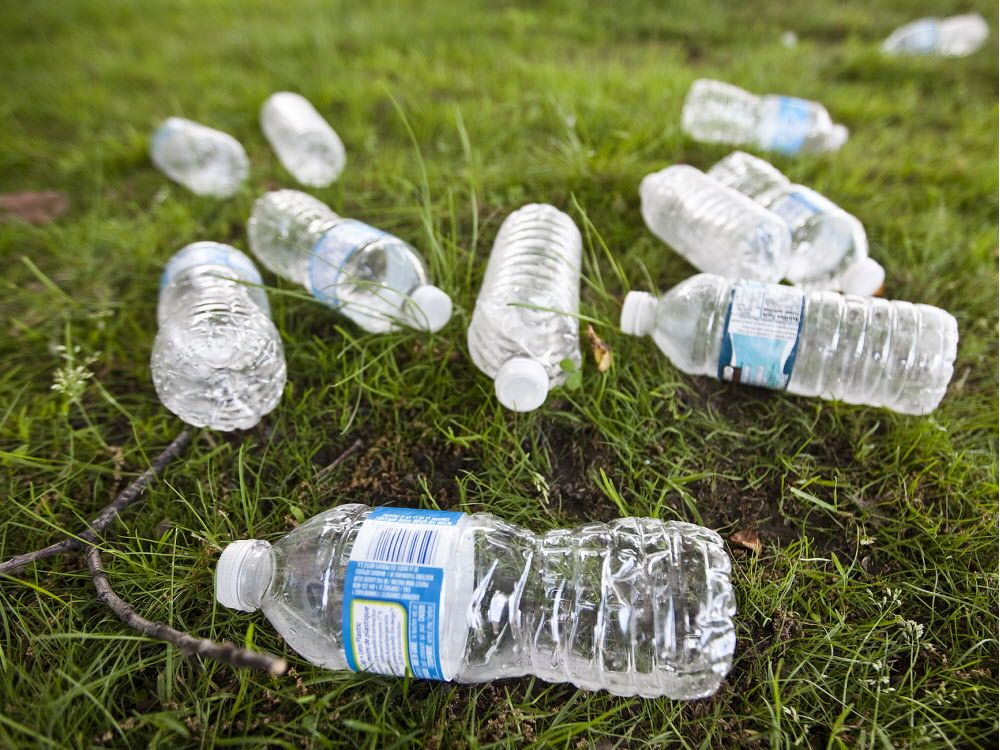plastic_bottle: (207, 496, 742, 707), (618, 270, 964, 421), (239, 182, 453, 332), (147, 237, 295, 436), (696, 148, 886, 293), (463, 196, 587, 417), (633, 151, 786, 281), (678, 76, 855, 153)
